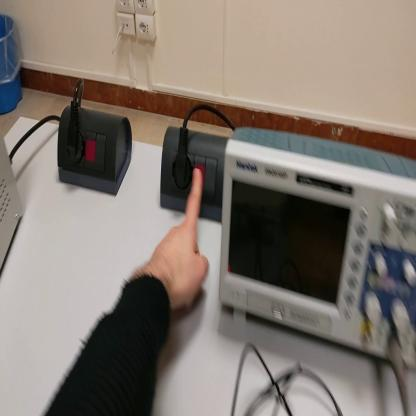hand: (148, 166, 210, 314)
oscilloscope: (219, 115, 416, 375)
power supply: (2, 125, 25, 279)
socket: (161, 128, 231, 228), (58, 109, 134, 196)
